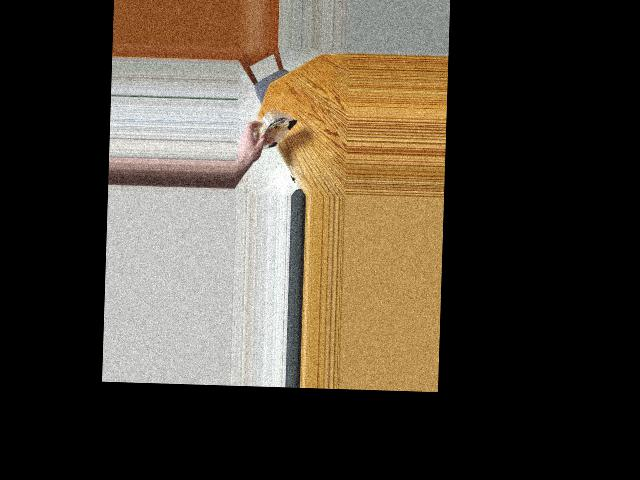cheese: (254, 103, 297, 162)
